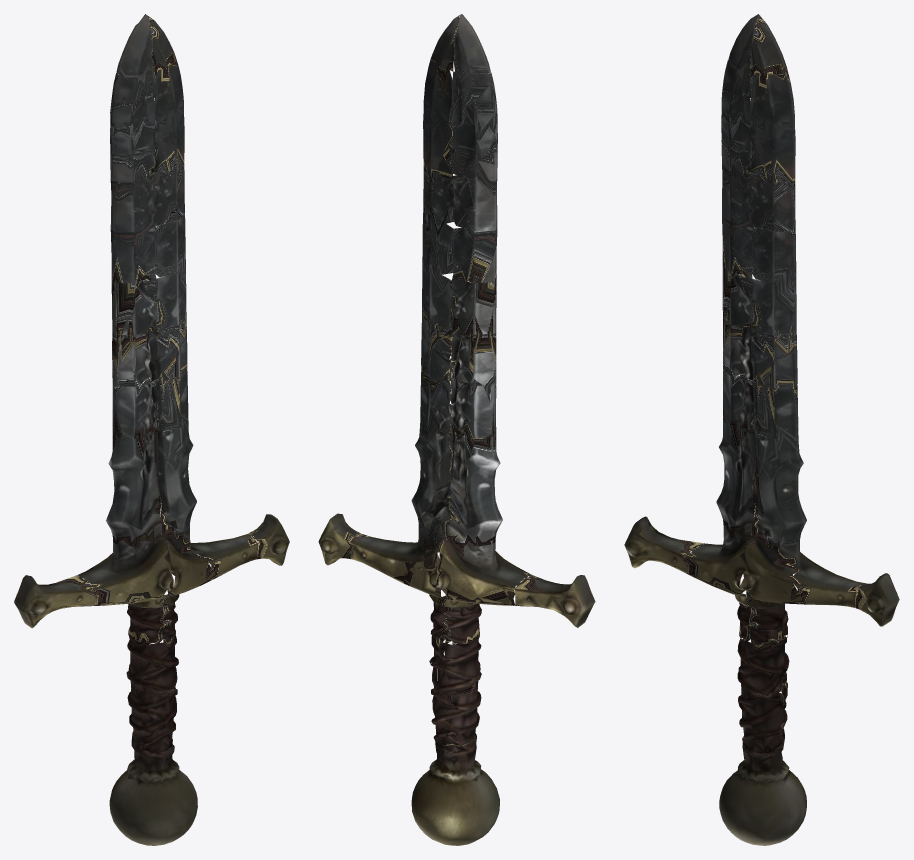
Rendered from w_kain_greatsword.glb.
3 renders of one model, left to right at view 1: azimuth 30°, elevation 25°; view 2: azimuth 150°, elevation 25°; view 3: azimuth 330°, elevation 25°, orthographic.
Visible parts, largest first — view 1: geometry_0; view 2: geometry_0; view 3: geometry_0.
Part boxes in pixels (box(x1,y1,x2,y2)): geometry_0: box(14, 14, 289, 845); geometry_0: box(318, 14, 595, 845); geometry_0: box(624, 14, 899, 845).
Size of the model in its own units: 0.5414 by 1.6 by 0.1556.
1 material, 1 textured.
